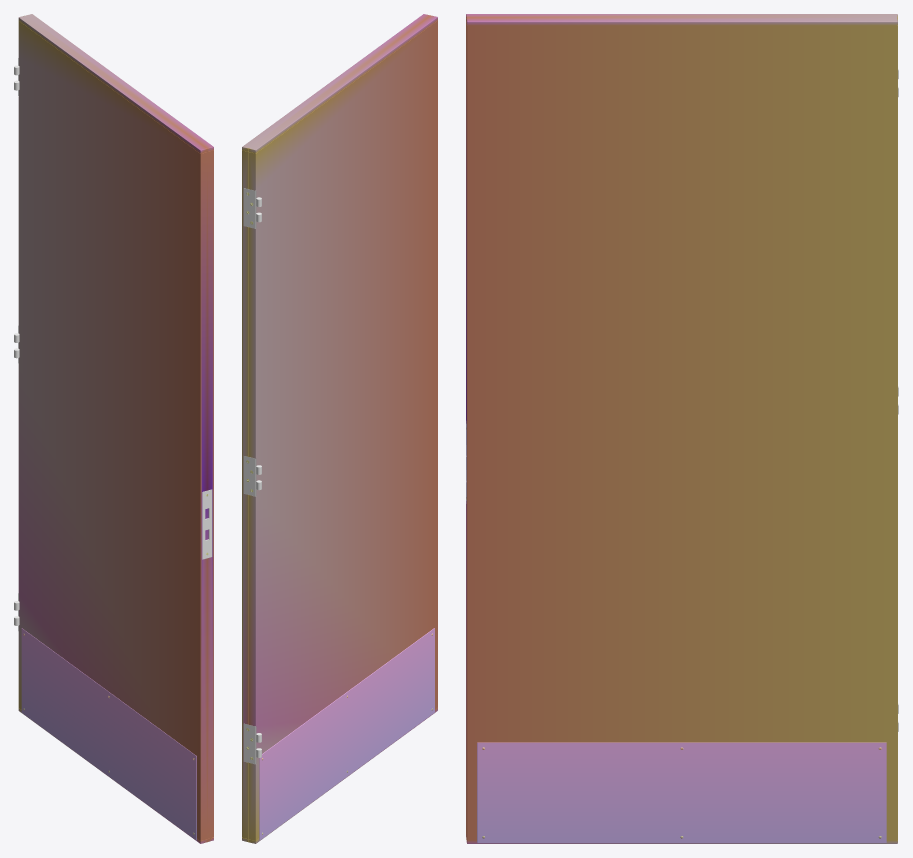
The model's file is Kit_DoorLeaf_Steel_PaintedMetal.fbx.
3 views of the same model, side by side, from view 1: azimuth 30°, elevation 25°; view 2: azimuth 150°, elevation 25°; view 3: azimuth 270°, elevation 25° (orthographic). The views are drawn at different scales.
Visible parts, largest first — view 1: Kit_DoorLeaf_Steel_LOD0; view 2: Kit_DoorLeaf_Steel_LOD0; view 3: Kit_DoorLeaf_Steel_LOD0.
Boxes of the visible parts, x1=… form: Kit_DoorLeaf_Steel_LOD0: x1=14, y1=14, x2=213, y2=843; Kit_DoorLeaf_Steel_LOD0: x1=242, y1=14, x2=437, y2=843; Kit_DoorLeaf_Steel_LOD0: x1=466, y1=14, x2=898, y2=843.
Size of what is drawn, in the model's own units: 0.0613 by 2.08 by 0.9925.
